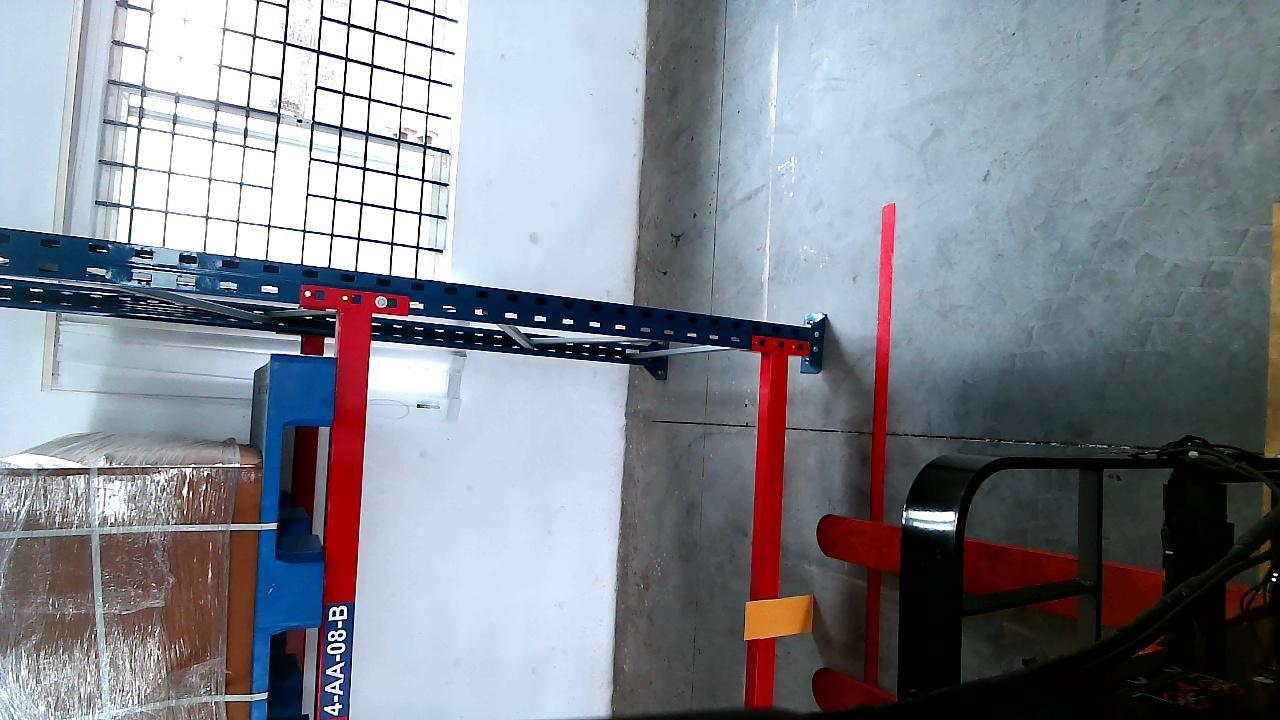red_line: (872, 205, 895, 505)
